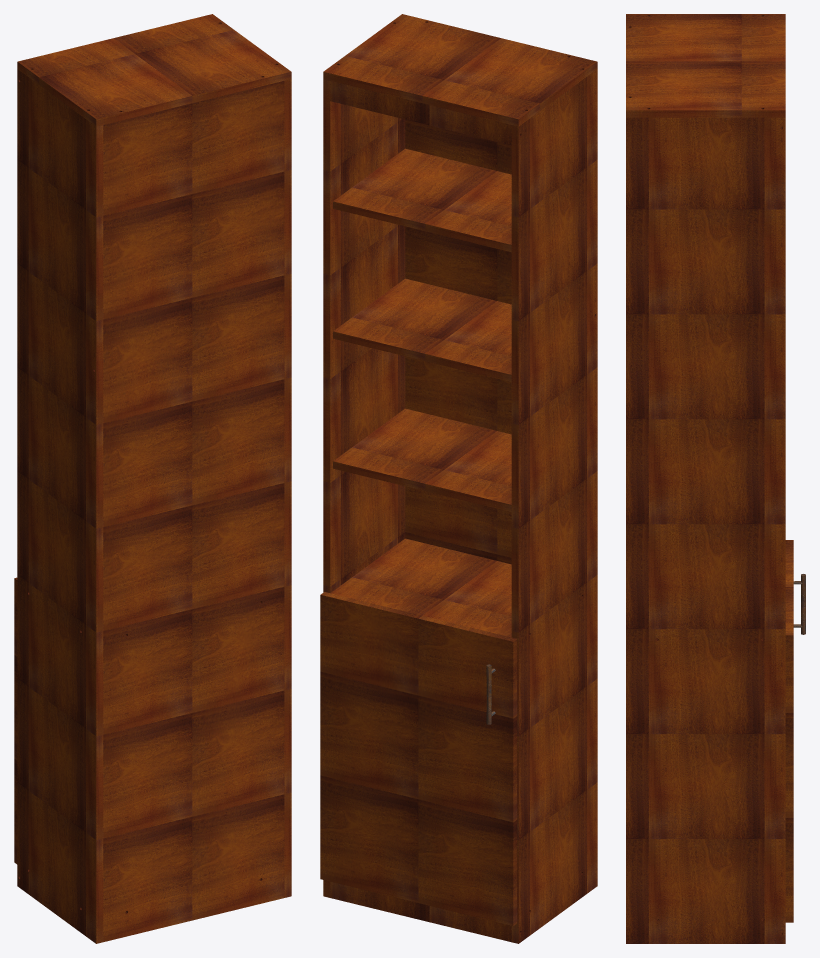
The picture shows the model from 3 angles, left to right: view 1: azimuth 30°, elevation 25°; view 2: azimuth 150°, elevation 25°; view 3: azimuth 270°, elevation 25°; orthographic projection.
Parts seen in each view (by area): view 1: mesh70_mesh70-geometry, mesh46_mesh46-geometry, mesh48_mesh48-geometry, mesh44_mesh44-geometry, mesh64_mesh64-geometry; view 2: mesh46_mesh46-geometry, mesh64_mesh64-geometry, mesh66_mesh66-geometry, mesh44_mesh44-geometry, mesh70_mesh70-geometry, mesh48_mesh48-geometry, mesh52_mesh52-geometry, mesh72_mesh72-geometry; view 3: mesh44_mesh44-geometry, mesh48_mesh48-geometry, mesh64_mesh64-geometry.
Boxes of the visible parts, <box> form: mesh70_mesh70-geometry: <box>103,81,284,941</box>; mesh46_mesh46-geometry: <box>17,69,103,943</box>; mesh48_mesh48-geometry: <box>17,14,291,126</box>; mesh44_mesh44-geometry: <box>284,79,291,897</box>; mesh64_mesh64-geometry: <box>14,577,17,864</box>; mesh46_mesh46-geometry: <box>511,69,597,943</box>; mesh64_mesh64-geometry: <box>320,592,517,926</box>; mesh66_mesh66-geometry: <box>333,148,511,511</box>; mesh44_mesh44-geometry: <box>323,79,405,897</box>; mesh70_mesh70-geometry: <box>405,119,511,564</box>; mesh48_mesh48-geometry: <box>323,14,597,126</box>; mesh52_mesh52-geometry: <box>331,538,511,637</box>; mesh72_mesh72-geometry: <box>330,81,511,942</box>; mesh44_mesh44-geometry: <box>626,117,785,943</box>; mesh48_mesh48-geometry: <box>626,14,785,117</box>; mesh64_mesh64-geometry: <box>785,540,793,922</box>.
Size of what is drawn, in the model's own units: 0.2363 by 0.9536 by 0.1866.
